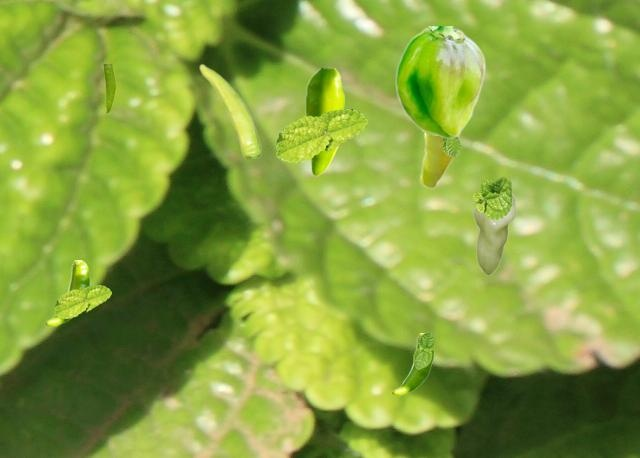green_chili: (395, 26, 485, 138), (199, 63, 260, 157), (305, 68, 343, 175), (472, 192, 515, 274), (44, 260, 89, 326), (391, 333, 433, 395), (419, 133, 459, 188), (103, 64, 114, 112)
